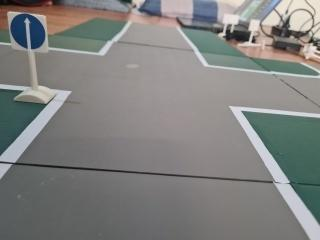straight: (8, 12, 49, 55)
